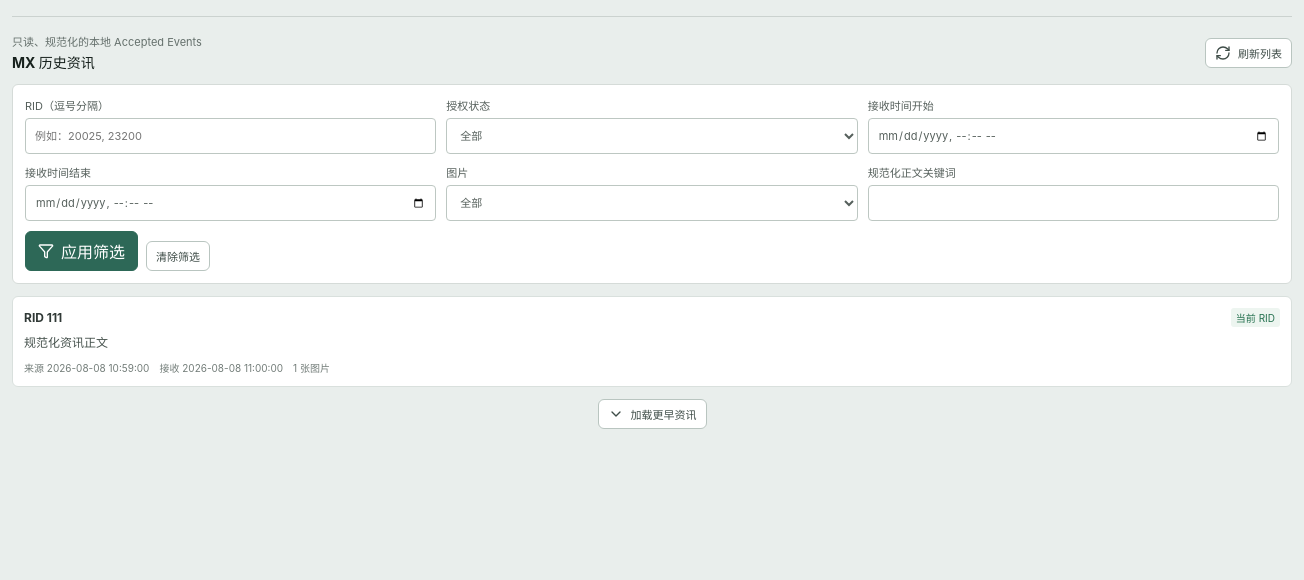
Test: MX information feed › keeps composed filters in the URL, loads a keyset page, and opens only opaque media
The image size is (1304, 580).
Expected: the text "规范化资讯正文" is shown, [24,335,108,350]
Type "111,222" into the field named "RID 筛选". click: (231,136)
box: [25,118,436,154]
Select "当前 RID" in the dropdown labelled "授权状态". click: (652,136)
box: [446,118,858,154]
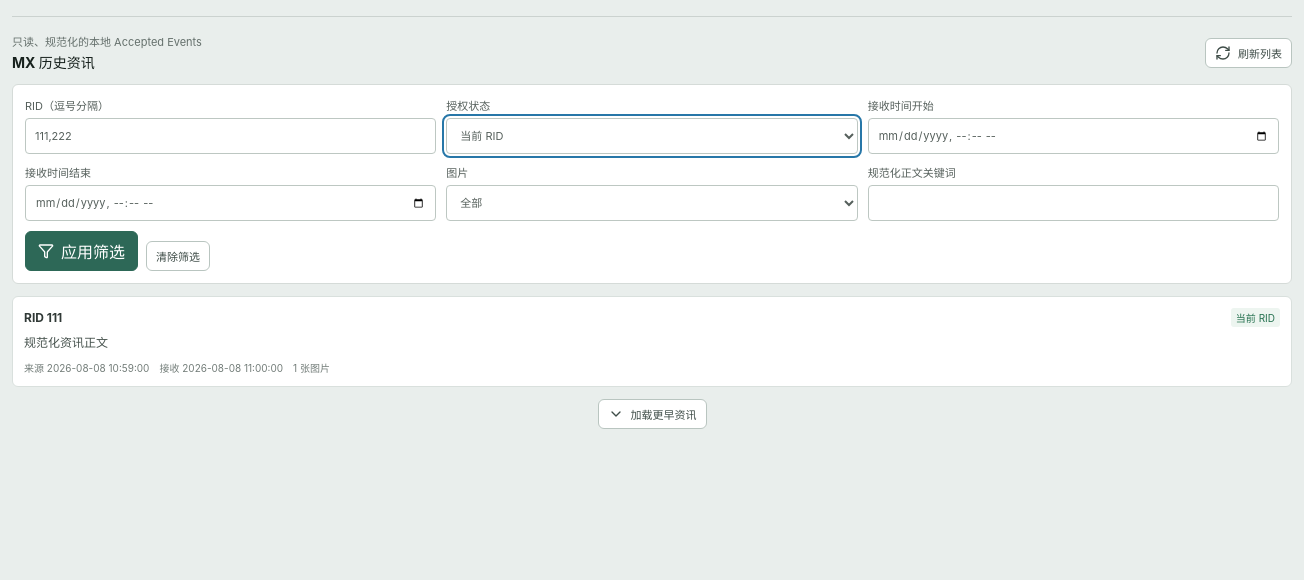
Select "有图片" in the dropdown named "图片筛选". click: (652,203)
box: [446,185,858,221]
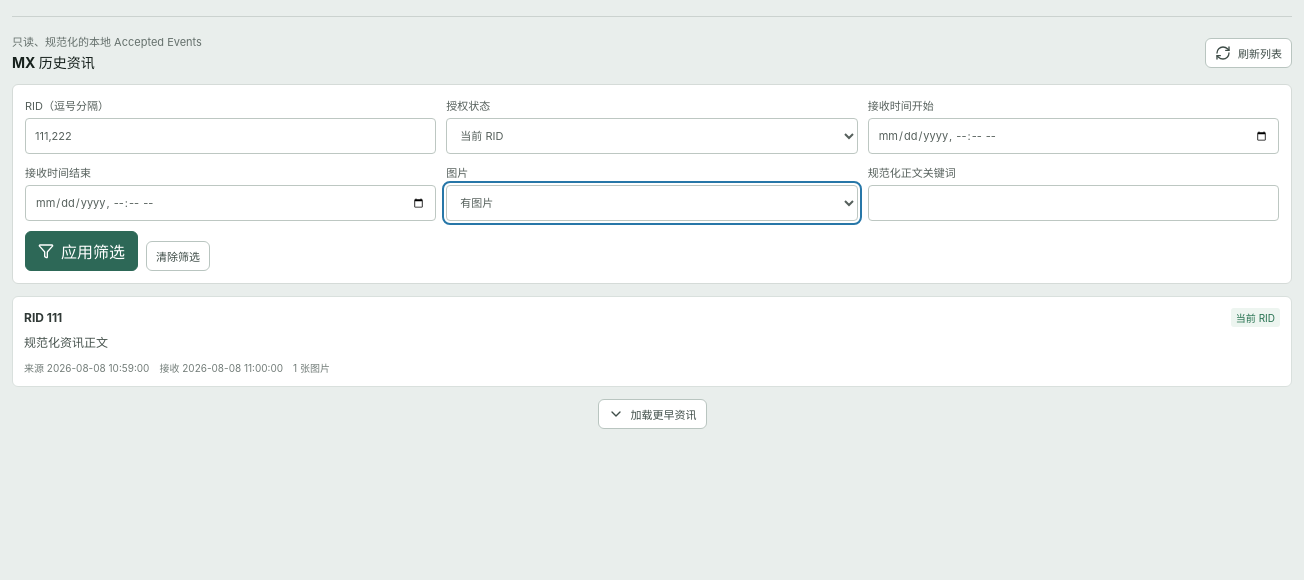
Type "市场" into the field labelled "正文关键词". click: (1073,203)
box: [868,185,1279,221]
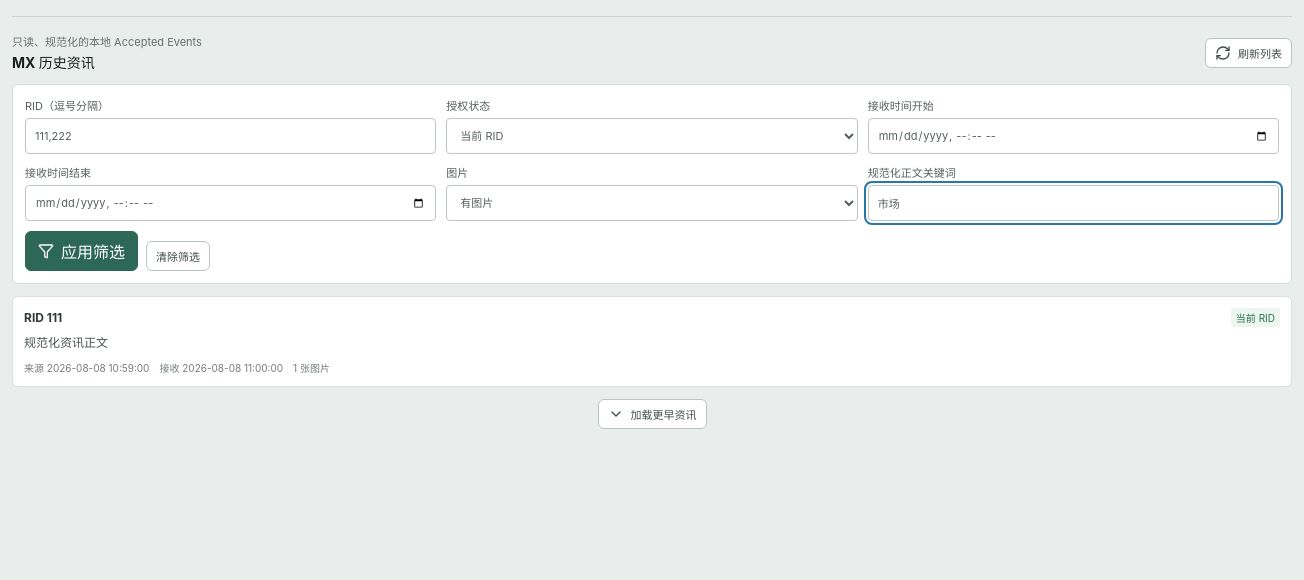
Click the button "应用筛选". click: (82,251)
box: [25,231,138,271]
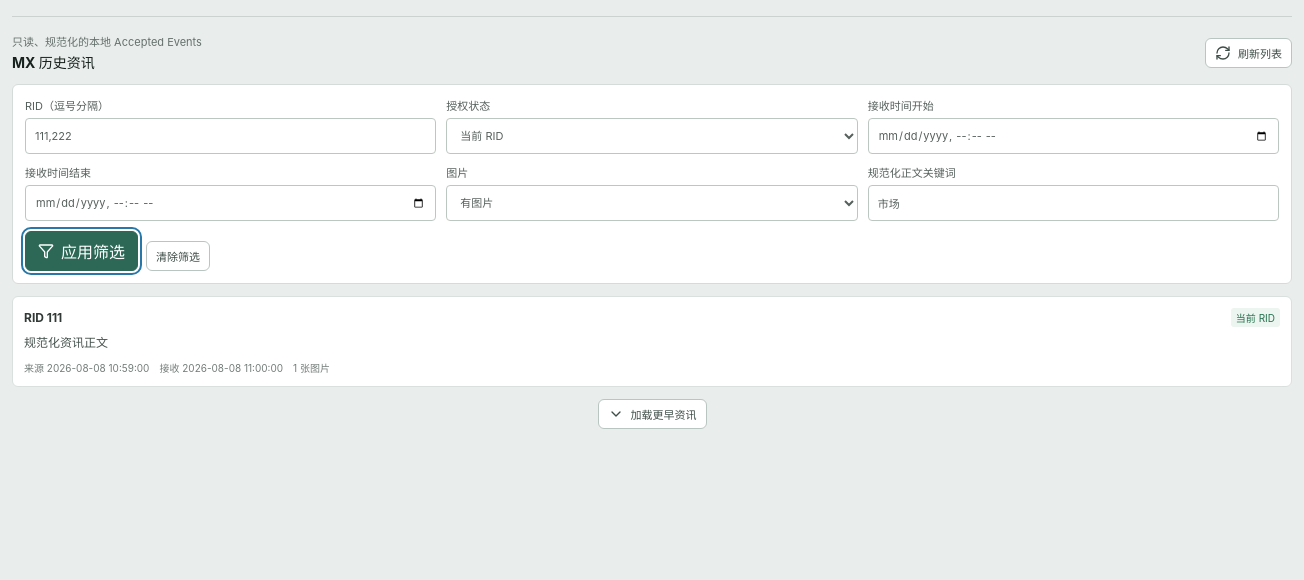
Click the button "加载更早资讯". click: (652,414)
box: [598,399,706,429]
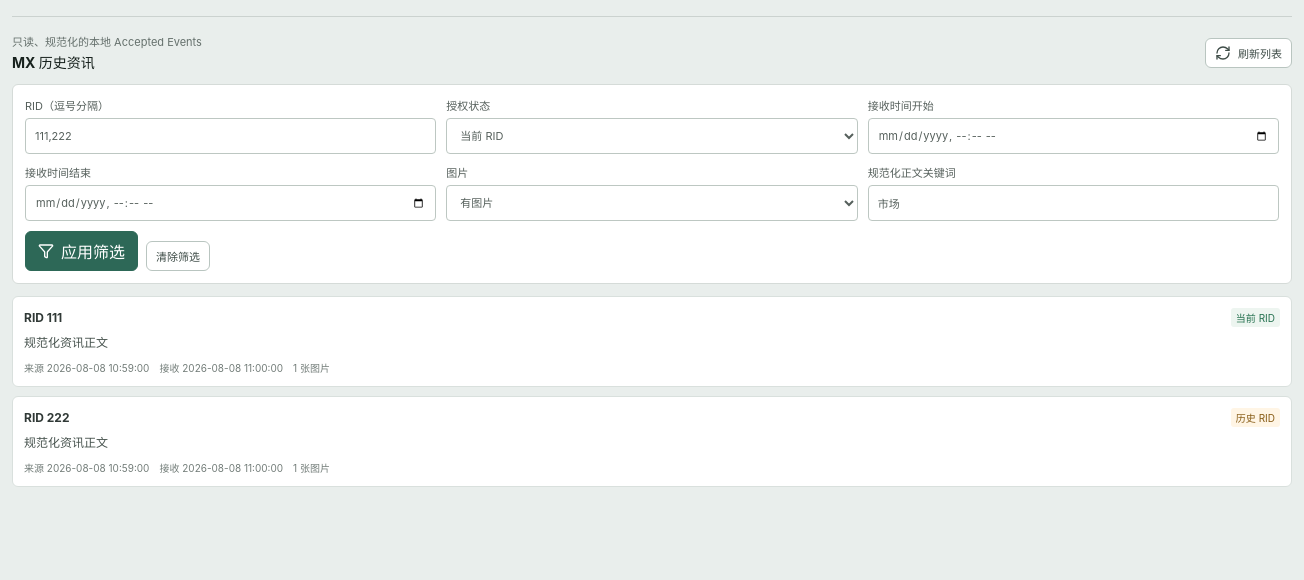
Result: the text "RID 222" is shown at [24,410,70,425]
Click the button "RID 111". click: (1255,318)
box: [12,296,1292,387]
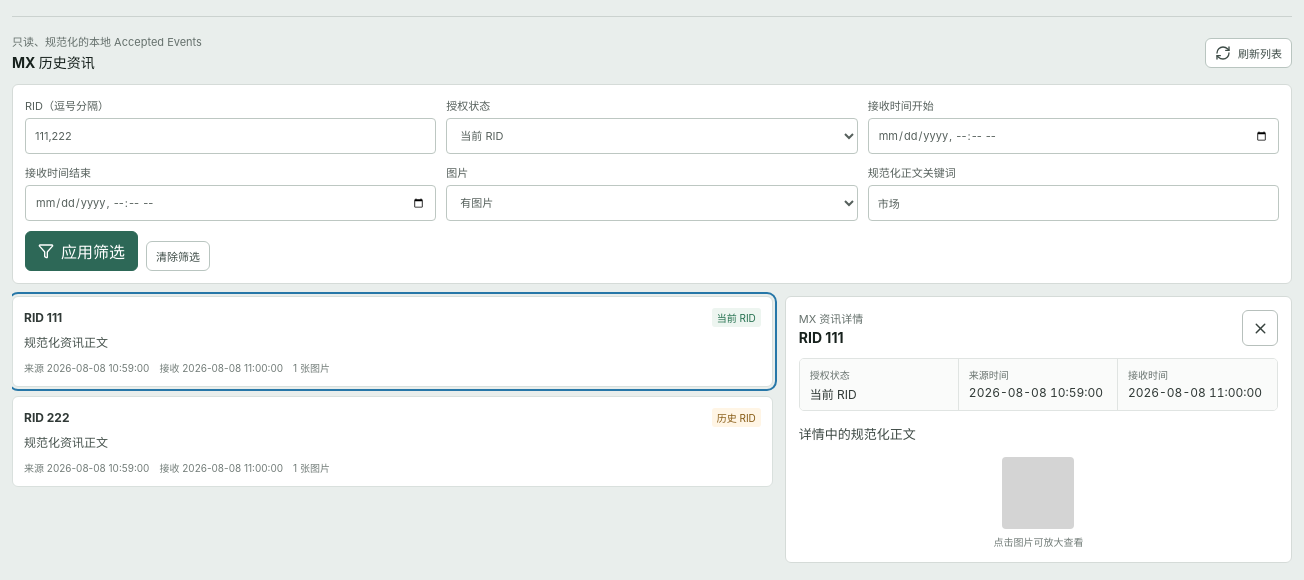
Result: the text "详情中的规范化正文" is shown at [799,426,916,442]
